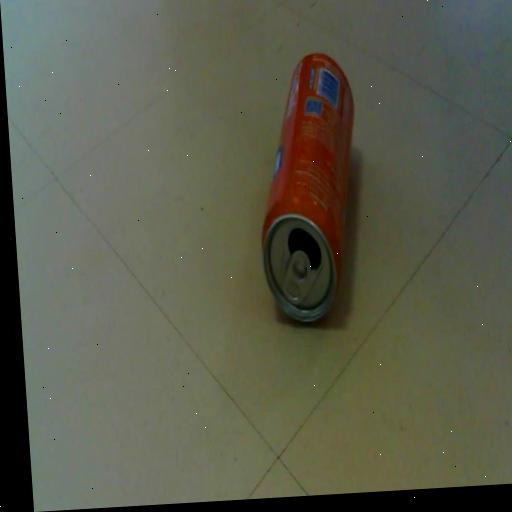canned: (242, 39, 375, 336)
